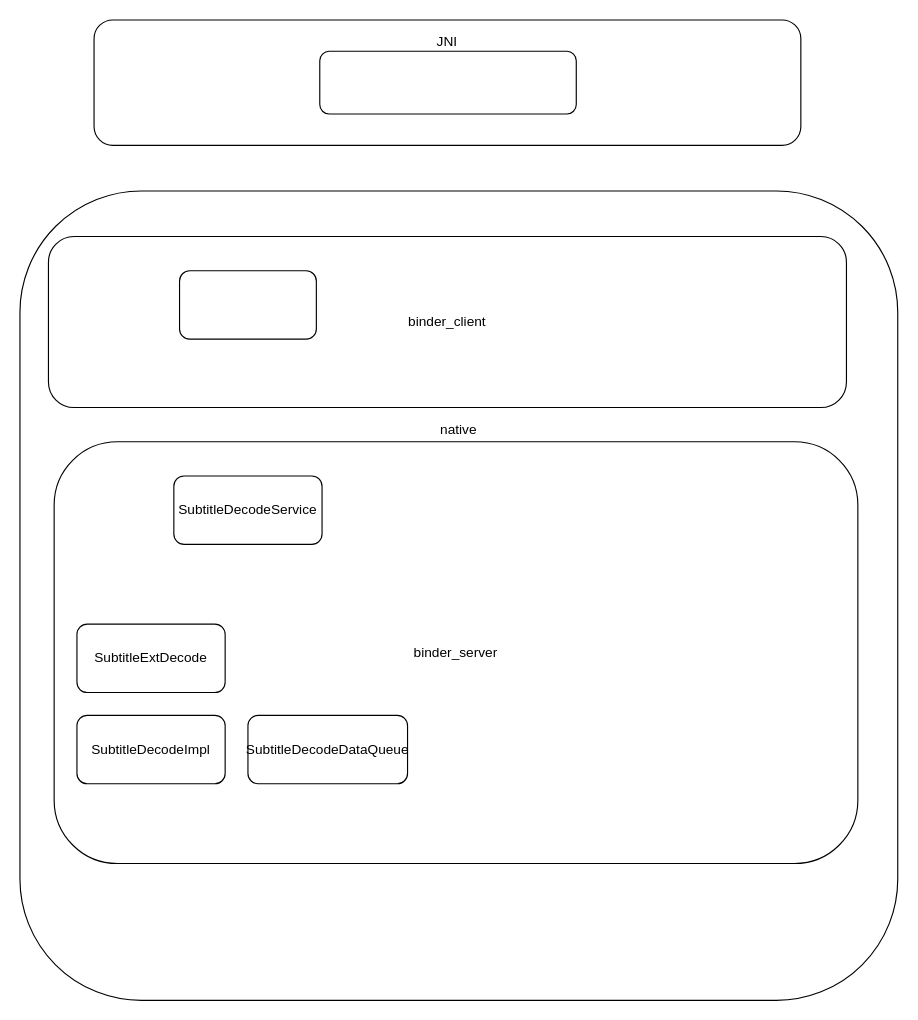
Some shapes in this 918 by 1020 pixel diagram are drawn without their labels. Here are the shapes that lost their labels. From the top down, the centre of each, then its label:
point (447, 82): com_eswin_media_SubtitleDecode
point (247, 304): SubtitleDecode
